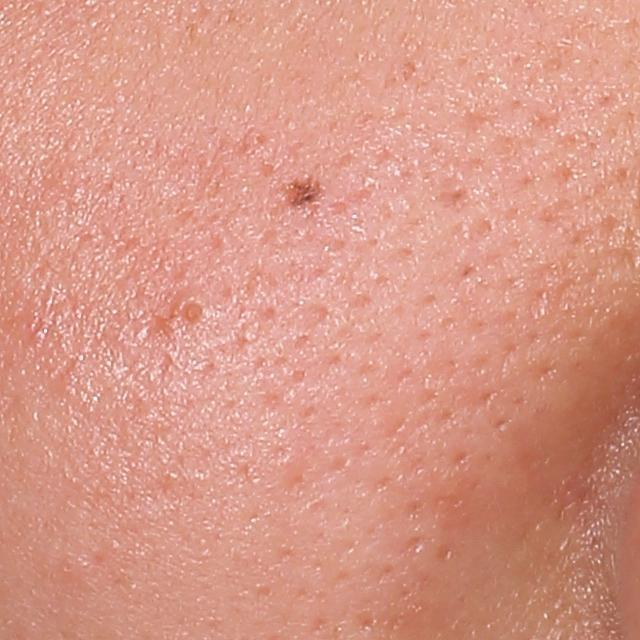comedo: (174, 294, 214, 334)
nevus: (286, 174, 331, 219)
